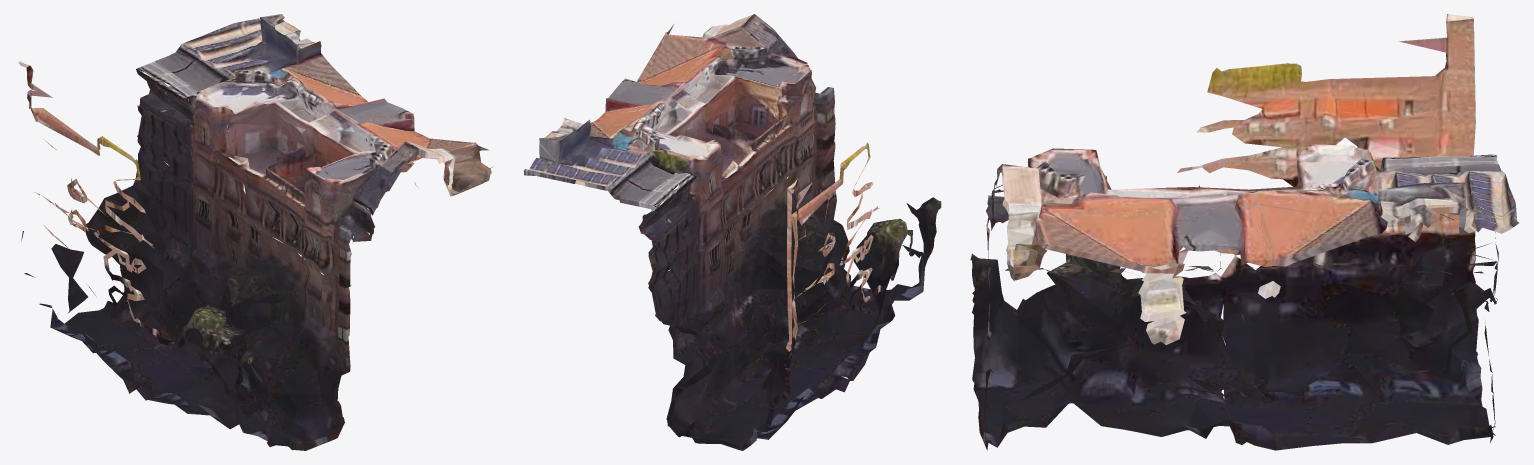
3 renders of one model, left to right at view 1: azimuth 30°, elevation 25°; view 2: azimuth 150°, elevation 25°; view 3: azimuth 270°, elevation 25°, orthographic. The views are drawn at different scales.
Parts seen in each view (by area): view 1: Mesh_0; view 2: Mesh_0; view 3: Mesh_0.
Part boxes in pixels (x1,y1,x2,y2): Mesh_0: [18, 14, 493, 450]; Mesh_0: [523, 14, 941, 450]; Mesh_0: [970, 14, 1518, 450].
Size of the model in its own units: 34.2 by 30.46 by 41.38.
1 material, 1 textured.
